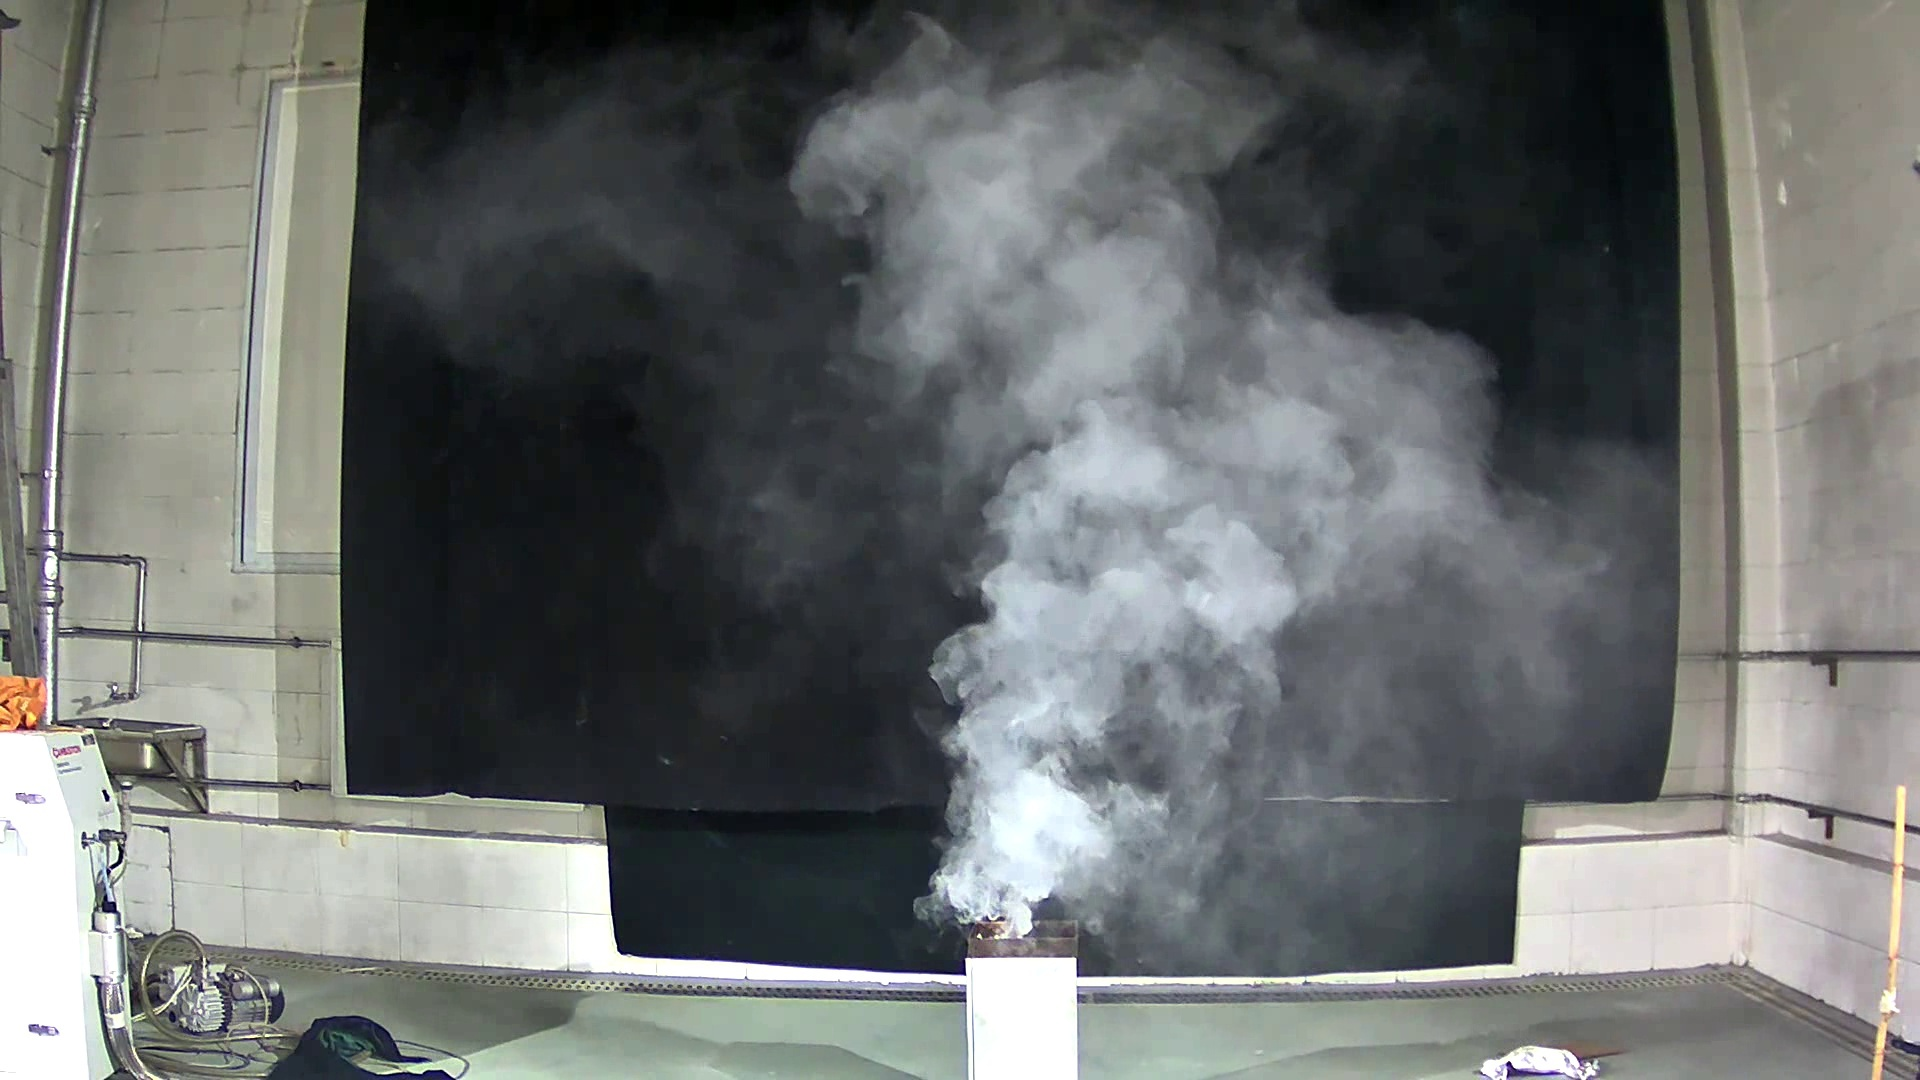smoke: (744, 24, 1448, 913)
